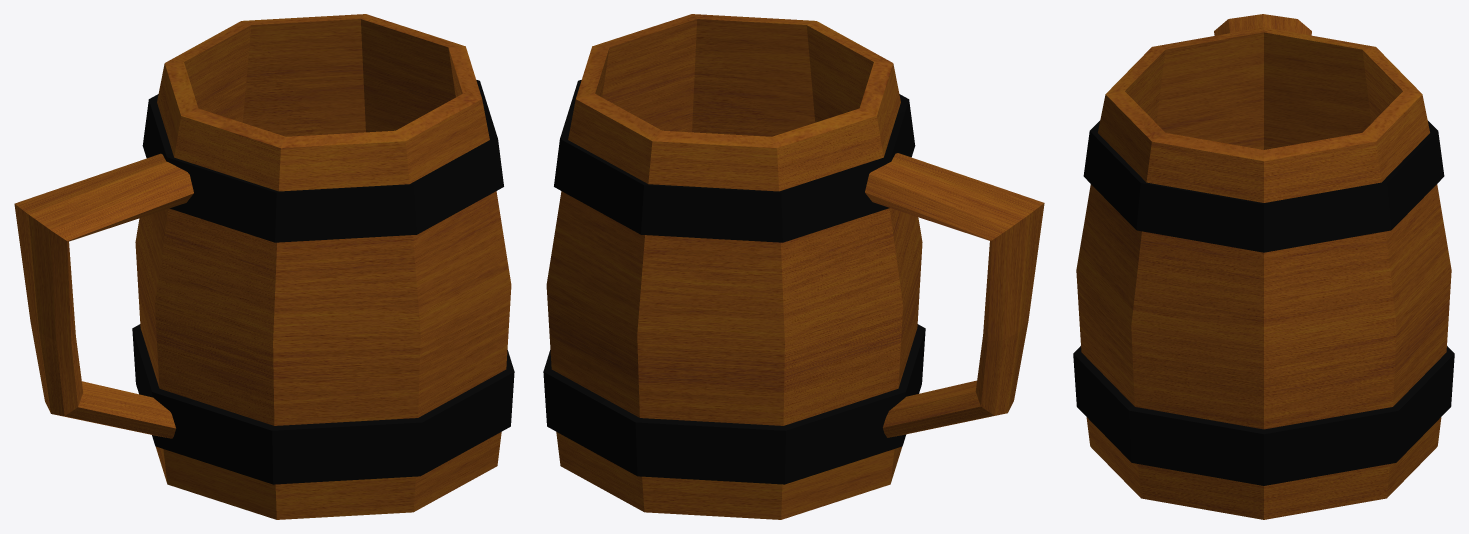
The model's file is wood_beermug_mock.fbx.
3 views of the same model, side by side, from view 1: azimuth 30°, elevation 25°; view 2: azimuth 150°, elevation 25°; view 3: azimuth 270°, elevation 25° (orthographic). The views are drawn at different scales.
Parts seen in each view (by area): view 1: pCylinder2; view 2: pCylinder2; view 3: pCylinder2.
Boxes of the visible parts, x1,y1,x2,y2 form: pCylinder2: (14, 14, 514, 519); pCylinder2: (543, 14, 1044, 519); pCylinder2: (1073, 14, 1454, 519).
Size of the model in its own units: 3.32 by 2.51 by 2.44.
